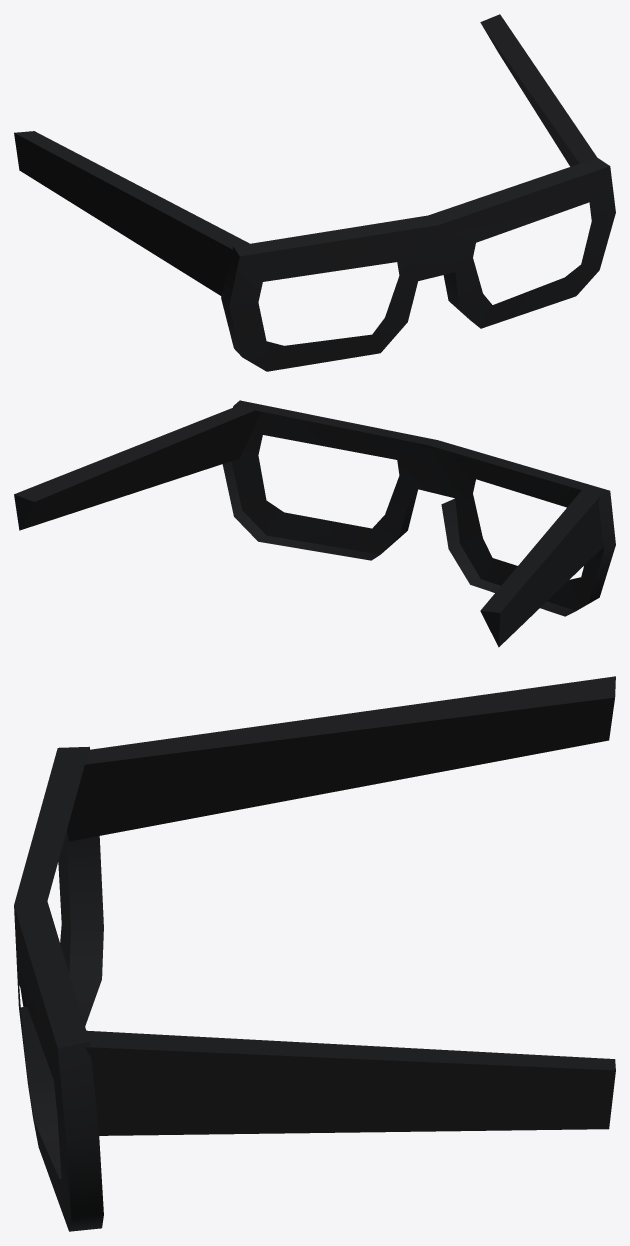
The model's file is Female_Glasses_02.fbx.
3 views of the same model, one above another, from view 1: azimuth 30°, elevation 25°; view 2: azimuth 150°, elevation 25°; view 3: azimuth 270°, elevation 25° (orthographic). The views are drawn at different scales.
Visible parts, largest first — view 1: Female_Glasses_02; view 2: Female_Glasses_02; view 3: Female_Glasses_02.
Boxes of the visible parts, x1,y1,x2,y2 form: Female_Glasses_02: [14, 14, 615, 371]; Female_Glasses_02: [14, 400, 615, 647]; Female_Glasses_02: [14, 676, 615, 1231].
Size of the model in its own units: 57.58 by 15.89 by 37.17.
